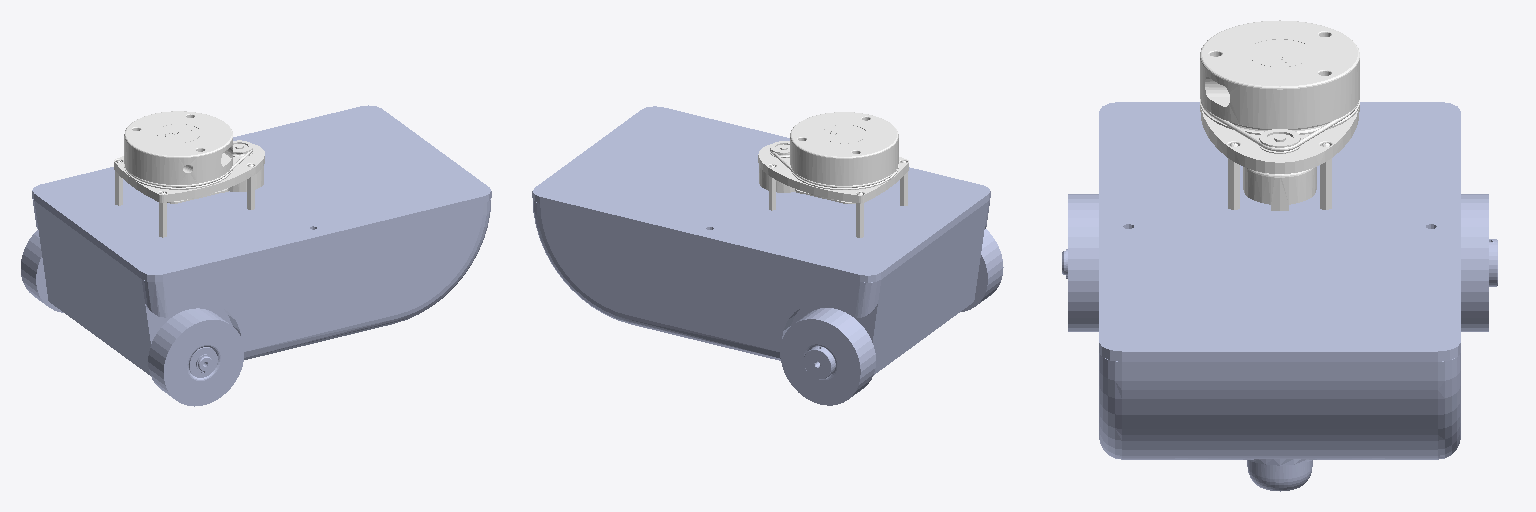
robot.urdf — taylor_description:
<?xml version="1.0" encoding="utf-8"?>
<!-- This URDF was automatically created by SolidWorks to URDF Exporter! Originally created by [author] ([email redacted]) 
     Commit Version: 1.6.0-4-g7f85cfe  Build Version: 1.6.7995.38578
     For more information, please see http://wiki.ros.org/sw_urdf_exporter -->
<robot
  name="taylor_description">
  <link
    name="base_link">
    <inertial>
      <origin
        xyz="0.097174 0.025101 1.9337E-06"
        rpy="0 0 0" />
      <mass
        value="0.65385" />
      <inertia
        ixx="0.002038"
        ixy="-4.4552E-05"
        ixz="-3.3397E-08"
        iyy="0.0059638"
        iyz="-1.9482E-08"
        izz="0.0043786" />
    </inertial>
    <visual>
      <origin
        xyz="0 0 0"
        rpy="0 0 0" />
      <geometry>
        <mesh
          filename="package://taylor_description/meshes/base_link.STL" />
      </geometry>
      <material
        name="">
        <color
          rgba="0.79216 0.81961 0.93333 1" />
      </material>
    </visual>
    <collision>
      <origin
        xyz="0 0 0"
        rpy="0 0 0" />
      <geometry>
        <mesh
          filename="package://taylor_description/meshes/base_link.STL" />
      </geometry>
    </collision>
  </link>
  <link
    name="right_wheel">
    <inertial>
      <origin
        xyz="-0.0134995209094582 -2.03221668610353E-06 -3.11022023206695E-11"
        rpy="0 0 0" />
      <mass
        value="0.0573675865850721" />
      <inertia
        ixx="2.54892095119016E-05"
        ixy="2.67586021620391E-09"
        ixz="-1.15289456121779E-14"
        iyy="1.46655937346885E-05"
        iyz="1.90020714591229E-14"
        izz="1.46625450142094E-05" />
    </inertial>
    <visual>
      <origin
        xyz="0 0 0"
        rpy="0 0 0" />
      <geometry>
        <mesh
          filename="package://taylor_description/meshes/right_wheel.STL" />
      </geometry>
      <material
        name="">
        <color
          rgba="0.792156862745098 0.819607843137255 0.933333333333333 1" />
      </material>
    </visual>
    <collision>
      <origin
        xyz="0 0 0"
        rpy="0 0 0" />
      <geometry>
        <mesh
          filename="package://taylor_description/meshes/right_wheel.STL" />
      </geometry>
    </collision>
  </link>
  <joint
    name="right_wheel_joint"
    type="continuous">
    <origin
      xyz="0 -0.069 0"
      rpy="1.5708 0 1.5708" />
    <parent
      link="base_link" />
    <child
      link="right_wheel" />
    <axis
      xyz="1 0 0" />
  </joint>
  <link
    name="left_wheel">
    <inertial>
      <origin
        xyz="0.0125004790905418 -2.03221668610353E-06 -3.11022039365138E-11"
        rpy="0 0 0" />
      <mass
        value="0.0573675865850721" />
      <inertia
        ixx="2.54892095119016E-05"
        ixy="2.67586021620392E-09"
        ixz="-1.15289456063992E-14"
        iyy="1.46655937346885E-05"
        iyz="1.90020714653885E-14"
        izz="1.46625450142094E-05" />
    </inertial>
    <visual>
      <origin
        xyz="0 0 0"
        rpy="0 0 0" />
      <geometry>
        <mesh
          filename="package://taylor_description/meshes/left_wheel.STL" />
      </geometry>
      <material
        name="">
        <color
          rgba="0.792156862745098 0.819607843137255 0.933333333333333 1" />
      </material>
    </visual>
    <collision>
      <origin
        xyz="0 0 0"
        rpy="0 0 0" />
      <geometry>
        <mesh
          filename="package://taylor_description/meshes/left_wheel.STL" />
      </geometry>
    </collision>
  </link>
  <joint
    name="left_wheel_joint"
    type="continuous">
    <origin
      xyz="0 0.069 0"
      rpy="1.5708 0 1.5708" />
    <parent
      link="base_link" />
    <child
      link="left_wheel" />
    <axis
      xyz="1 0 0" />
  </joint>
  <link
    name="caster_wheel">
    <inertial>
      <origin
        xyz="8.32667268468867E-17 -0.00982966964470464 -1.38777878078145E-17"
        rpy="0 0 0" />
      <mass
        value="0.00790078265000134" />
      <inertia
        ixx="6.3277471369579E-07"
        ixy="3.00987082068736E-22"
        ixz="-3.30872245021211E-22"
        iyy="8.42250473271864E-07"
        iyz="-4.2977660534153E-22"
        izz="5.63631984480031E-07" />
    </inertial>
    <visual>
      <origin
        xyz="0 0 0"
        rpy="0 0 0" />
      <geometry>
        <mesh
          filename="package://taylor_description/meshes/caster_wheel.STL" />
      </geometry>
      <material
        name="">
        <color
          rgba="0.792156862745098 0.819607843137255 0.933333333333333 1" />
      </material>
    </visual>
    <collision>
      <origin
        xyz="0 0 0"
        rpy="0 0 0" />
      <geometry>
        <mesh
          filename="package://taylor_description/meshes/caster_wheel.STL" />
      </geometry>
    </collision>
  </link>
  <joint
    name="caster_wheel_joint"
    type="continuous">
    <origin
      xyz="0.17 0 -0.009"
      rpy="1.5708 0 -0.16473" />
    <parent
      link="base_link" />
    <child
      link="caster_wheel" />
    <axis
      xyz="0 1 0" />
  </joint>
  <link
    name="lidar">
    <inertial>
      <origin
        xyz="0 0 0"
        rpy="0 0 0" />
      <mass
        value="0" />
      <inertia
        ixx="0"
        ixy="0"
        ixz="0"
        iyy="0"
        iyz="0"
        izz="0" />
    </inertial>
    <visual>
      <origin
        xyz="0 0 0"
        rpy="0 0 0" />
      <geometry>
        <mesh
          filename="package://taylor_description/meshes/lidar.STL" />
      </geometry>
      <material
        name="">
        <color
          rgba="1 1 1 1" />
      </material>
    </visual>
    <collision>
      <origin
        xyz="0 0 0"
        rpy="0 0 0" />
      <geometry>
        <mesh
          filename="package://taylor_description/meshes/lidar.STL" />
      </geometry>
    </collision>
  </link>
  <joint
    name="lidar_joint"
    type="fixed">
    <origin
      xyz="0.034828 0 0.0936"
      rpy="1.5708 0 0" />
    <parent
      link="base_link" />
    <child
      link="lidar" />
    <axis
      xyz="0 0 0" />
  </joint>
</robot>

--- Render facts (derived) ---
The picture shows the robot from 3 angles, left to right: view 1: azimuth 30°, elevation 25°; view 2: azimuth 150°, elevation 25°; view 3: azimuth 270°, elevation 25°; orthographic projection.
Model taylor_description with 5 links and 4 joints (3 continuous, 1 fixed), rooted at base_link, posed all joints at 0.
Links seen in each view (by area): view 1: base_link, lidar, right_wheel, left_wheel; view 2: base_link, lidar, left_wheel, right_wheel; view 3: base_link, lidar, right_wheel, left_wheel, caster_wheel.
Link boxes in pixels (box(x1,y1,x2,y2)): base_link: box(32, 105, 491, 375); lidar: box(114, 111, 264, 237); right_wheel: box(148, 308, 243, 406); left_wheel: box(21, 230, 63, 312); base_link: box(532, 106, 990, 375); lidar: box(758, 112, 908, 237); left_wheel: box(780, 308, 875, 405); right_wheel: box(961, 229, 1003, 311); base_link: box(1099, 102, 1460, 465); lidar: box(1200, 20, 1359, 210); right_wheel: box(1062, 194, 1098, 331); left_wheel: box(1461, 194, 1497, 331); caster_wheel: box(1247, 460, 1312, 491).
Size in the robot's own frame: 0.258 by 0.19 by 0.1471 metres.
Meshes: 5 distinct files referenced, 5 mesh visuals loaded (5 binary STL).
